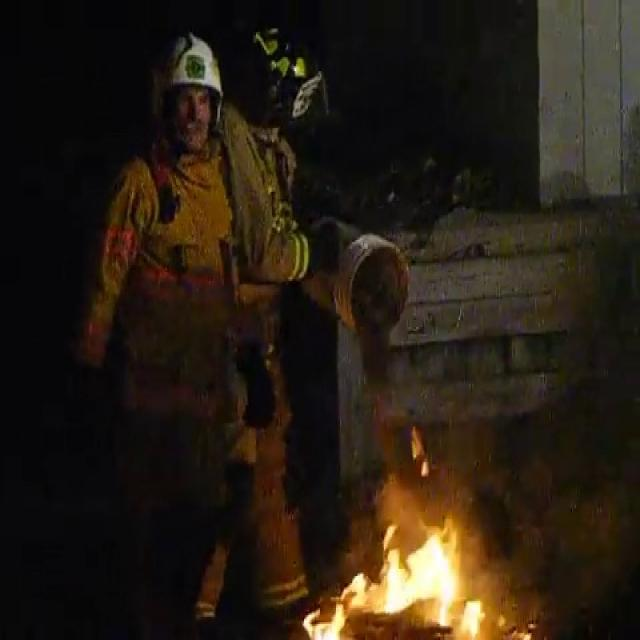Fire: (281, 505, 527, 640)
